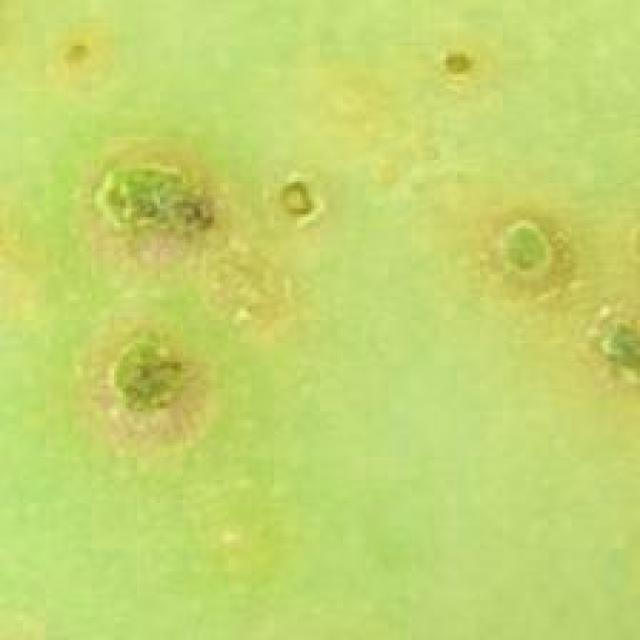others: (74, 93, 640, 582)
